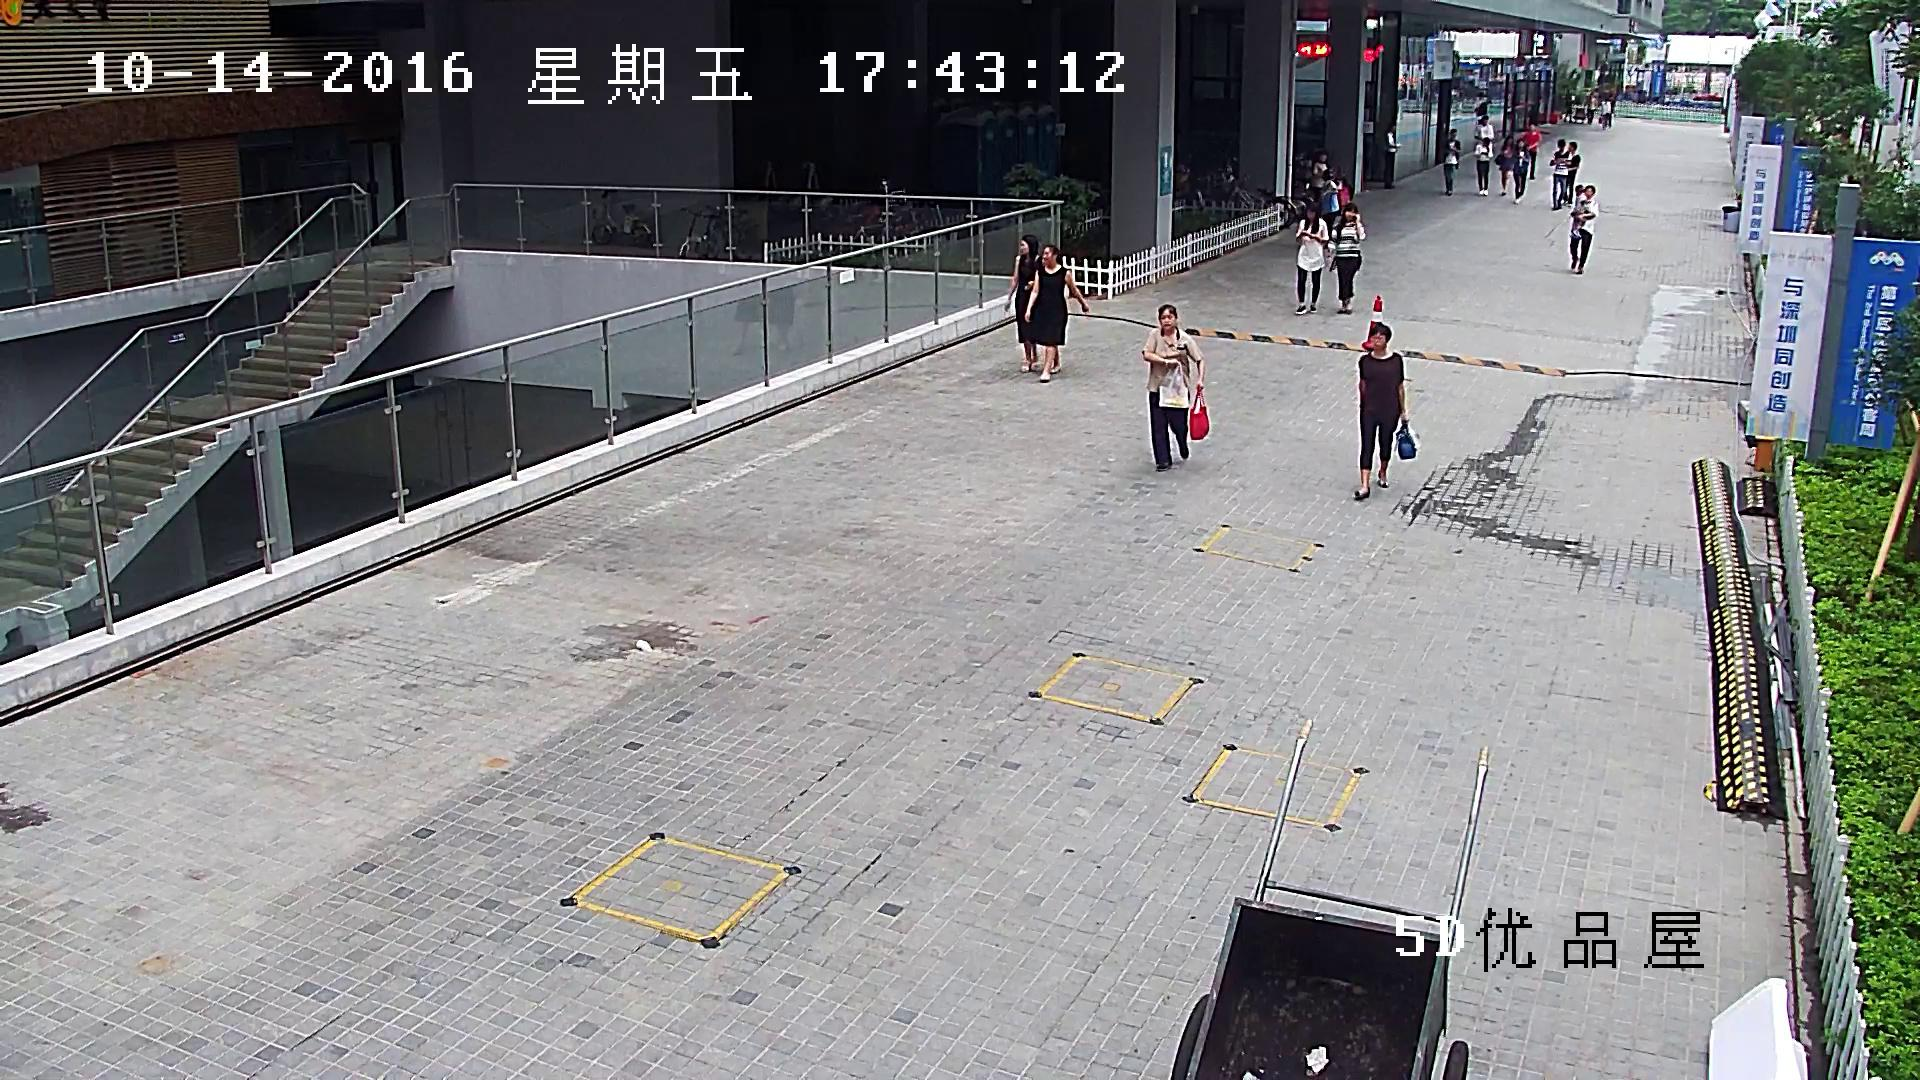person: (1142, 305, 1209, 472), (1353, 323, 1416, 500), (1024, 245, 1089, 381), (1004, 234, 1043, 373), (1331, 203, 1366, 314), (1294, 204, 1328, 314), (1570, 185, 1598, 274), (1319, 169, 1342, 242), (1173, 152, 1203, 211), (1549, 139, 1572, 210), (1495, 134, 1517, 194), (1472, 137, 1493, 195), (1522, 120, 1541, 179), (1570, 185, 1591, 239), (1443, 129, 1460, 195), (1513, 137, 1530, 203), (1383, 124, 1401, 189), (1562, 141, 1580, 203), (1311, 153, 1327, 203), (1572, 93, 1597, 124), (1472, 91, 1492, 125), (1474, 115, 1494, 140), (1598, 95, 1611, 130), (1528, 96, 1543, 125), (1584, 93, 1597, 124), (1606, 92, 1615, 124), (1564, 92, 1573, 123)
